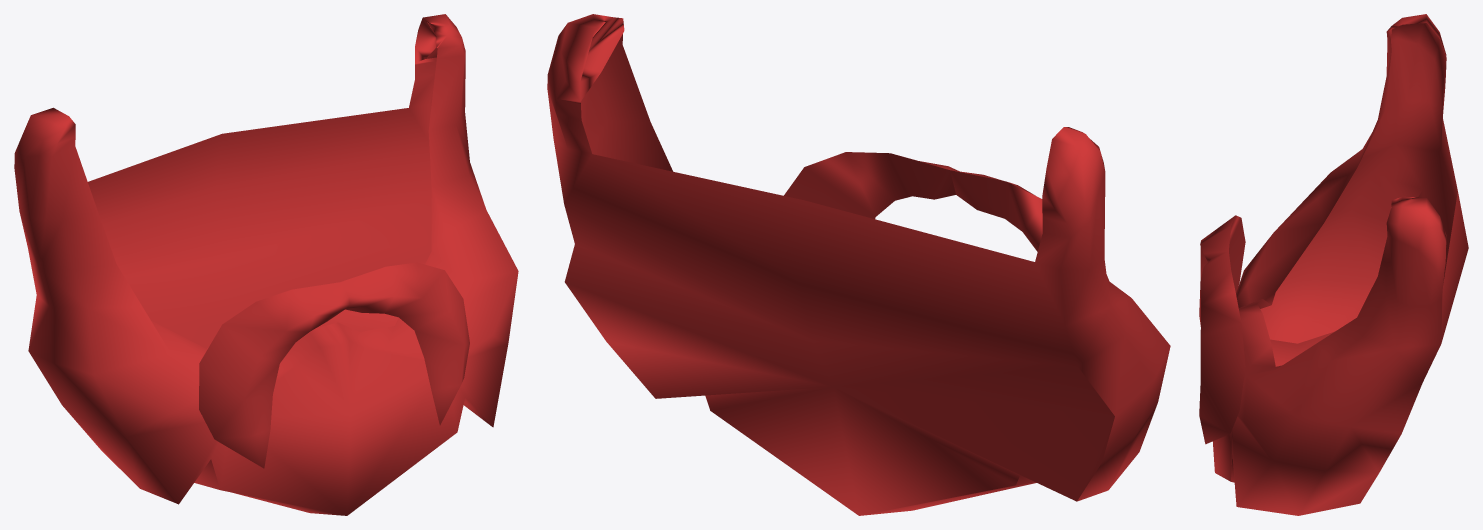
File: Beard_Red_13.fbx
3 views of the same model, side by side, from view 1: azimuth 30°, elevation 25°; view 2: azimuth 150°, elevation 25°; view 3: azimuth 270°, elevation 25° (orthographic). The views are drawn at different scales.
Parts seen in each view (by area): view 1: Beard_Red_13; view 2: Beard_Red_13; view 3: Beard_Red_13.
Part boxes in pixels (left/top/right/bottom): Beard_Red_13: left=14, top=14, right=518, bottom=515; Beard_Red_13: left=547, top=14, right=1170, bottom=515; Beard_Red_13: left=1199, top=14, right=1468, bottom=515.
Bounding box in the file's own units: 54.32 × 45.47 × 28.75.
